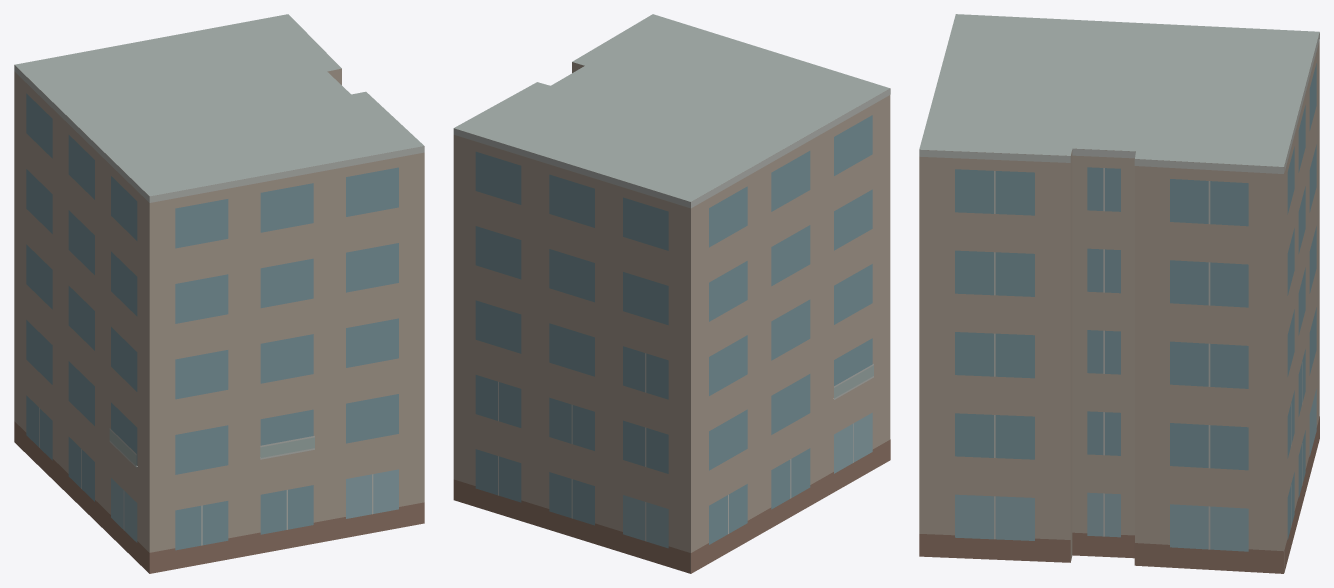
Rendered from survey-upis-32747301.glb.
The picture shows the model from 3 angles, left to right: view 1: azimuth 30°, elevation 25°; view 2: azimuth 150°, elevation 25°; view 3: azimuth 270°, elevation 25°; orthographic projection. The views are drawn at different scales.
Visible parts, largest first — view 1: survey-upis-32747301.tmp; view 2: survey-upis-32747301.tmp; view 3: survey-upis-32747301.tmp.
Part boxes in pixels (x1,y1,x2,y2): survey-upis-32747301.tmp: (14,14,424,573); survey-upis-32747301.tmp: (453,14,890,573); survey-upis-32747301.tmp: (919,14,1319,573).
Size of the model in its own units: 11.35 by 14.05 by 12.55.
